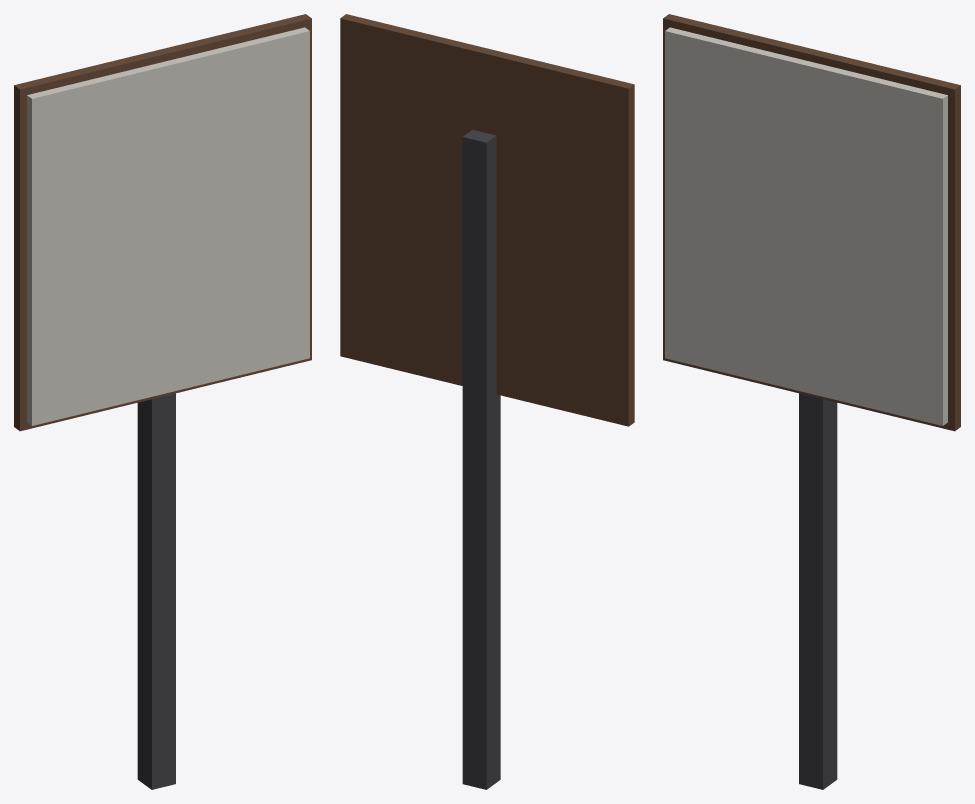
File: v2_sign.glb
The picture shows the model from 3 angles, left to right: view 1: azimuth 30°, elevation 25°; view 2: azimuth 150°, elevation 25°; view 3: azimuth 330°, elevation 25°; orthographic projection.
Parts seen in each view (by area): view 1: v2_sign; view 2: v2_sign; view 3: v2_sign.
Boxes of the visible parts, box(x1,y1,x2,y2) form: v2_sign: box(14, 14, 311, 789); v2_sign: box(340, 14, 634, 789); v2_sign: box(663, 14, 960, 789).
Bounding box in the file's own units: 0.84 × 2.02 × 0.105.
